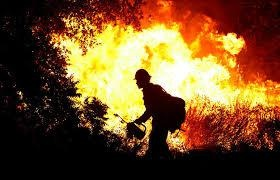fire: (53, 9, 261, 153)
